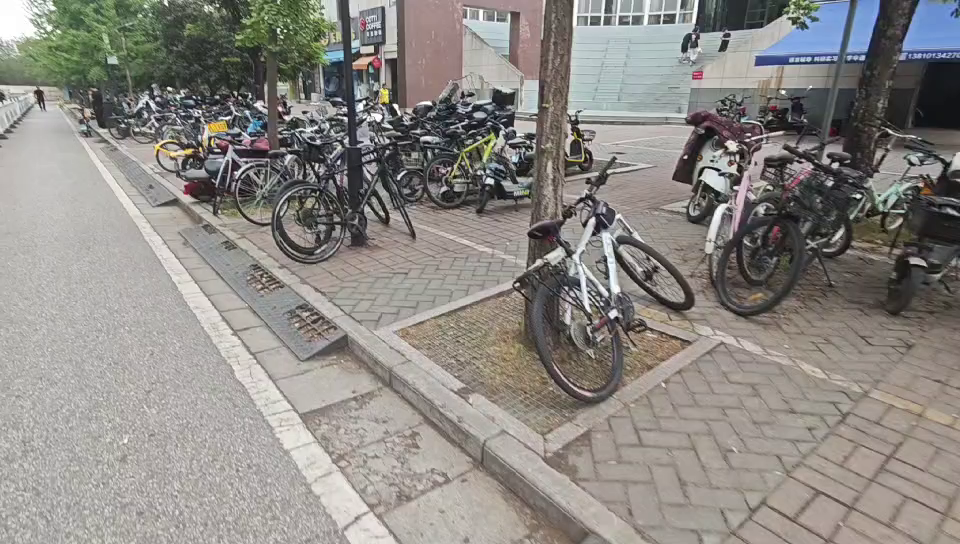others: (521, 177, 685, 391), (725, 144, 841, 321), (273, 152, 416, 253), (894, 146, 960, 334), (841, 111, 918, 249), (678, 97, 760, 226), (232, 132, 335, 214), (429, 123, 524, 206)
shared_bike_meituan: (149, 115, 226, 171)
